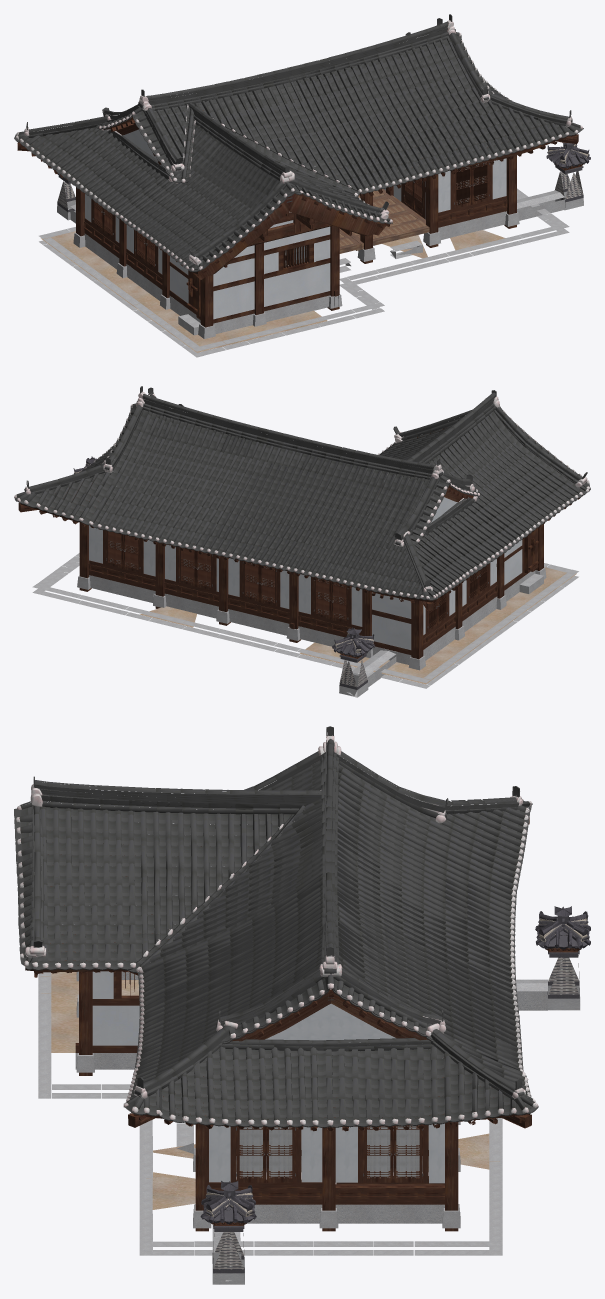
Rendered from byeolchu.glb.
3 renders of one model, top to bottom at view 1: azimuth 30°, elevation 25°; view 2: azimuth 150°, elevation 25°; view 3: azimuth 270°, elevation 25°, orthographic. The views are drawn at different scales.
Parts seen in each view (by area): view 1: Object_6, Object_7, Object_8, Object_4, Object_16, Object_9, Object_14, Object_15, Object_5, Object_10, Object_17; view 2: Object_7, Object_6, Object_4, Object_16, Object_8, Object_9, Object_5, Object_14, Object_10, Object_17; view 3: Object_7, Object_6, Object_8, Object_16, Object_4, Object_9, Object_14, Object_13, Object_10, Object_5, Object_17.
Part boxes in pixels (<box>): Object_6: <box>20,24,577,268</box>; Object_7: <box>14,14,519,256</box>; Object_8: <box>24,18,583,272</box>; Object_4: <box>17,110,584,327</box>; Object_16: <box>39,188,583,357</box>; Object_9: <box>85,116,506,319</box>; Object_14: <box>41,230,505,352</box>; Object_15: <box>339,189,429,253</box>; Object_5: <box>67,134,578,273</box>; Object_10: <box>50,142,590,212</box>; Object_17: <box>57,171,583,209</box>; Object_7: <box>14,386,587,600</box>; Object_6: <box>14,396,587,600</box>; Object_4: <box>18,445,582,659</box>; Object_16: <box>32,553,578,697</box>; Object_8: <box>15,387,590,592</box>; Object_9: <box>89,486,524,649</box>; Object_5: <box>39,427,575,623</box>; Object_14: <box>140,566,576,684</box>; Object_10: <box>73,456,374,689</box>; Object_17: <box>339,659,367,687</box>; Object_7: <box>33,726,538,1127</box>; Object_6: <box>33,741,531,1127</box>; Object_8: <box>14,761,538,1127</box>; Object_16: <box>38,971,580,1284</box>; Object_4: <box>34,817,581,1231</box>; Object_9: <box>62,834,444,1183</box>; Object_14: <box>41,972,499,1209</box>; Object_13: <box>239,1125,419,1177</box>; Object_10: <box>200,906,590,1273</box>; Object_5: <box>25,966,497,1182</box>; Object_17: <box>213,955,579,1269</box>.
Size of the model in its own units: 19.09 by 7.16 by 13.8.
11 materials, 10 textured.
